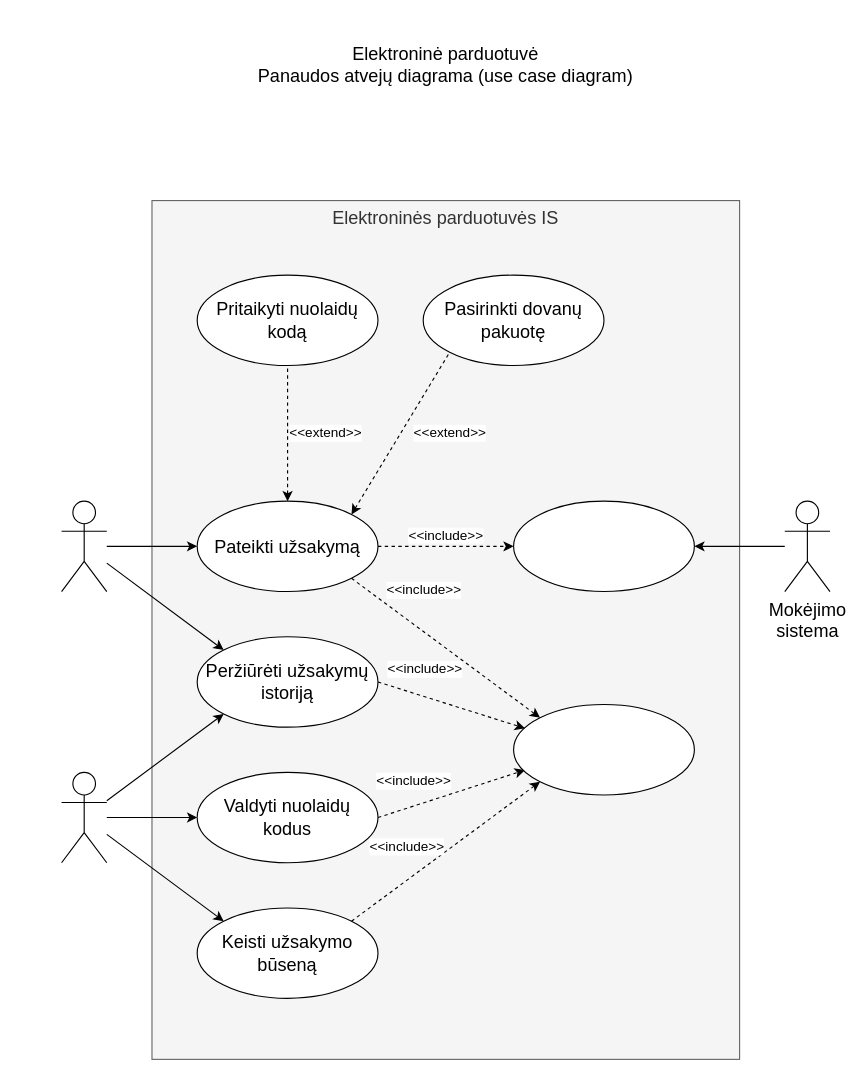
The diagram is 866 pixels wide and 1079 high, and some of its shapes have lost their labels. The centre of each missing label's shape, as x and y in pixels:
"Apmokėti užsakymą" belongs at pixel 603 546.
"Klientas" belongs at pixel 83 546.
"Parduotuvės Administratorius" belongs at pixel 83 817.
"Prisijungti" belongs at pixel 603 749.
